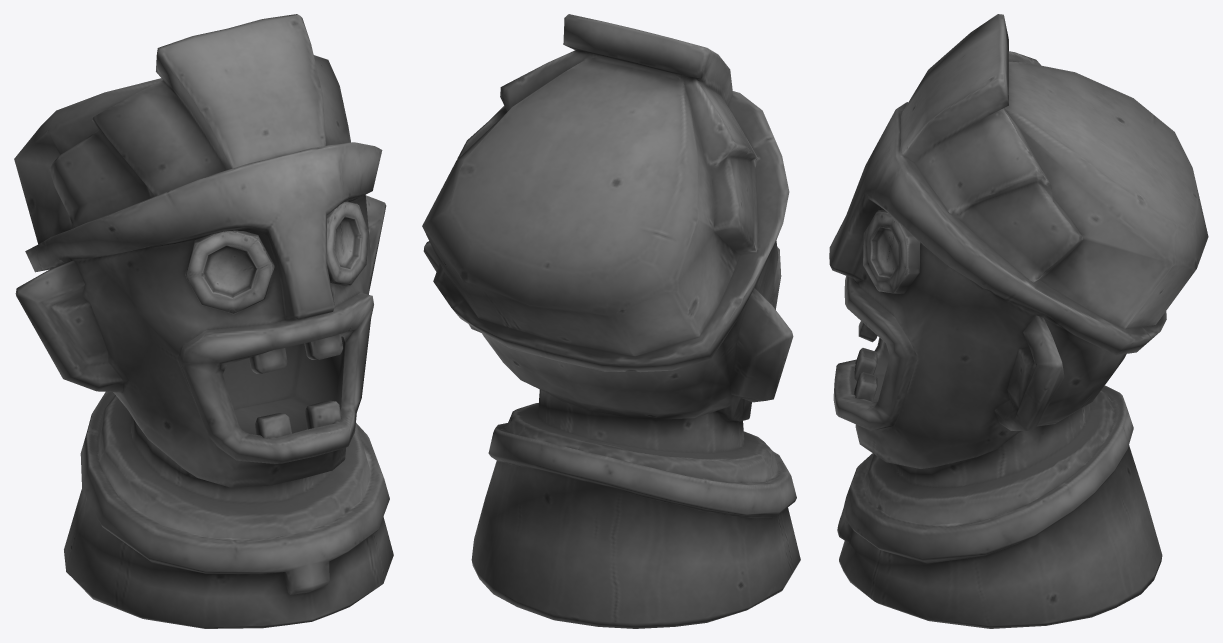
The model's file is ancient_maya_statue.glb.
3 renders of one model, left to right at view 1: azimuth 30°, elevation 25°; view 2: azimuth 150°, elevation 25°; view 3: azimuth 270°, elevation 25°, orthographic. The views are drawn at different scales.
Visible parts, largest first — view 1: dau_low_Material_0.001, mat_low_Material_0.001, rang_low_Material_0.001; view 2: dau_low_Material_0.001; view 3: dau_low_Material_0.001, mat_low_Material_0.001, rang_low_Material_0.001.
Part boxes in pixels (box(x1,y1,x2,y2)): dau_low_Material_0.001: box(14, 14, 393, 628); mat_low_Material_0.001: box(185, 201, 368, 314); rang_low_Material_0.001: box(249, 334, 342, 438); dau_low_Material_0.001: box(422, 14, 800, 628); dau_low_Material_0.001: box(829, 14, 1208, 628); mat_low_Material_0.001: box(863, 210, 920, 293); rang_low_Material_0.001: box(854, 321, 877, 401).
Bounding box in the file's own units: 22.94 × 31.6 × 20.93.
Materials: 1 (1 with a texture image).
